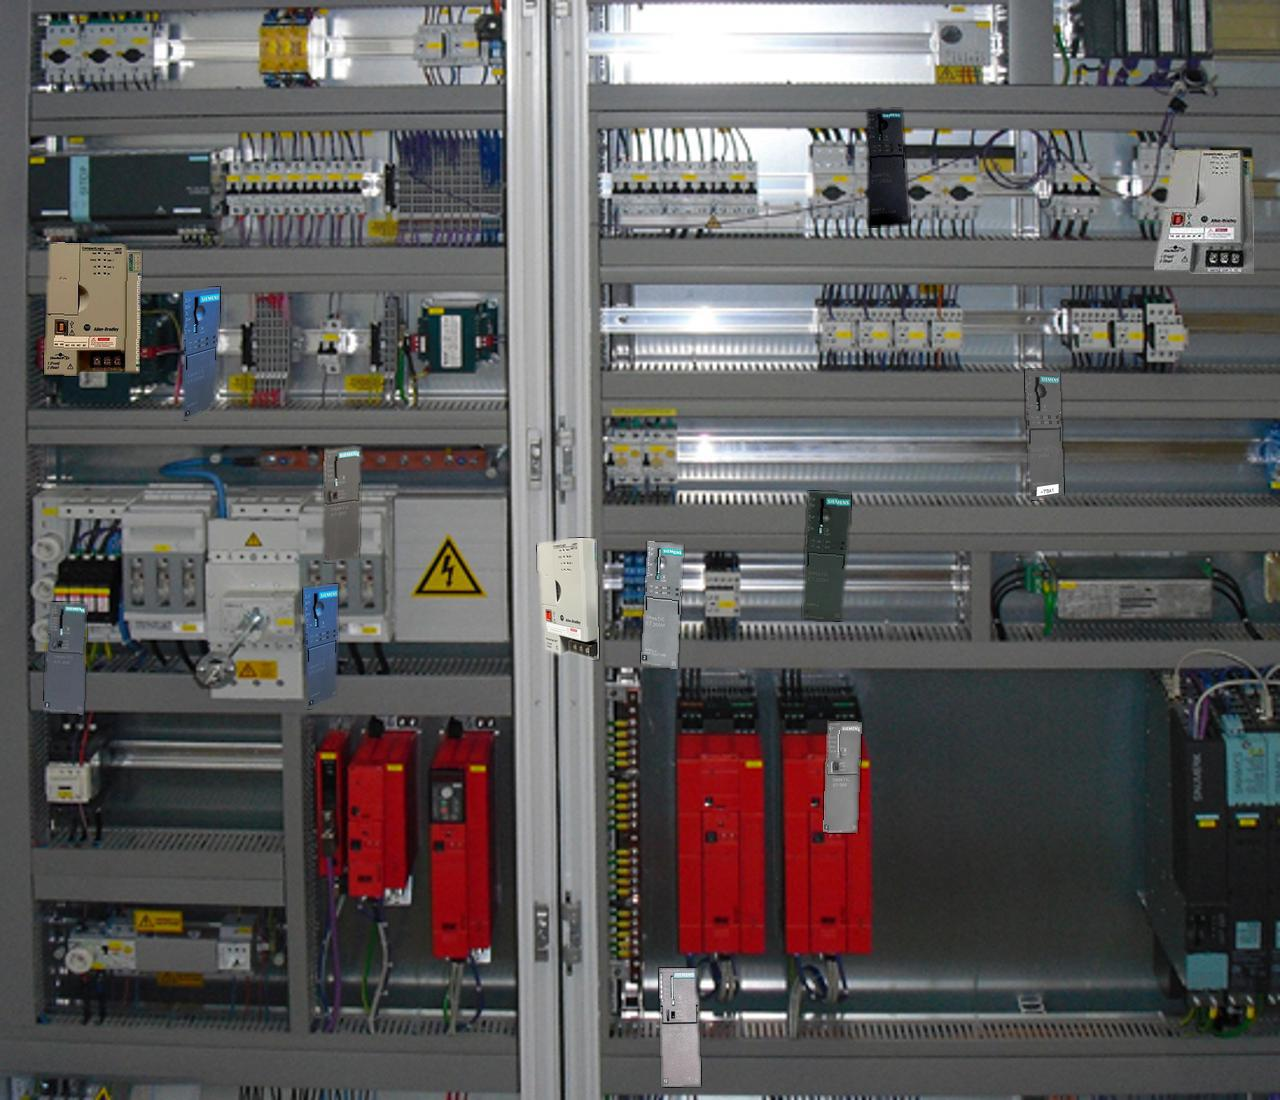AllenBradley: (44, 242, 140, 375), (1154, 150, 1253, 273), (537, 537, 598, 658)
Siemens: (659, 968, 700, 1086), (44, 601, 86, 714), (323, 446, 360, 563), (823, 721, 861, 832)
